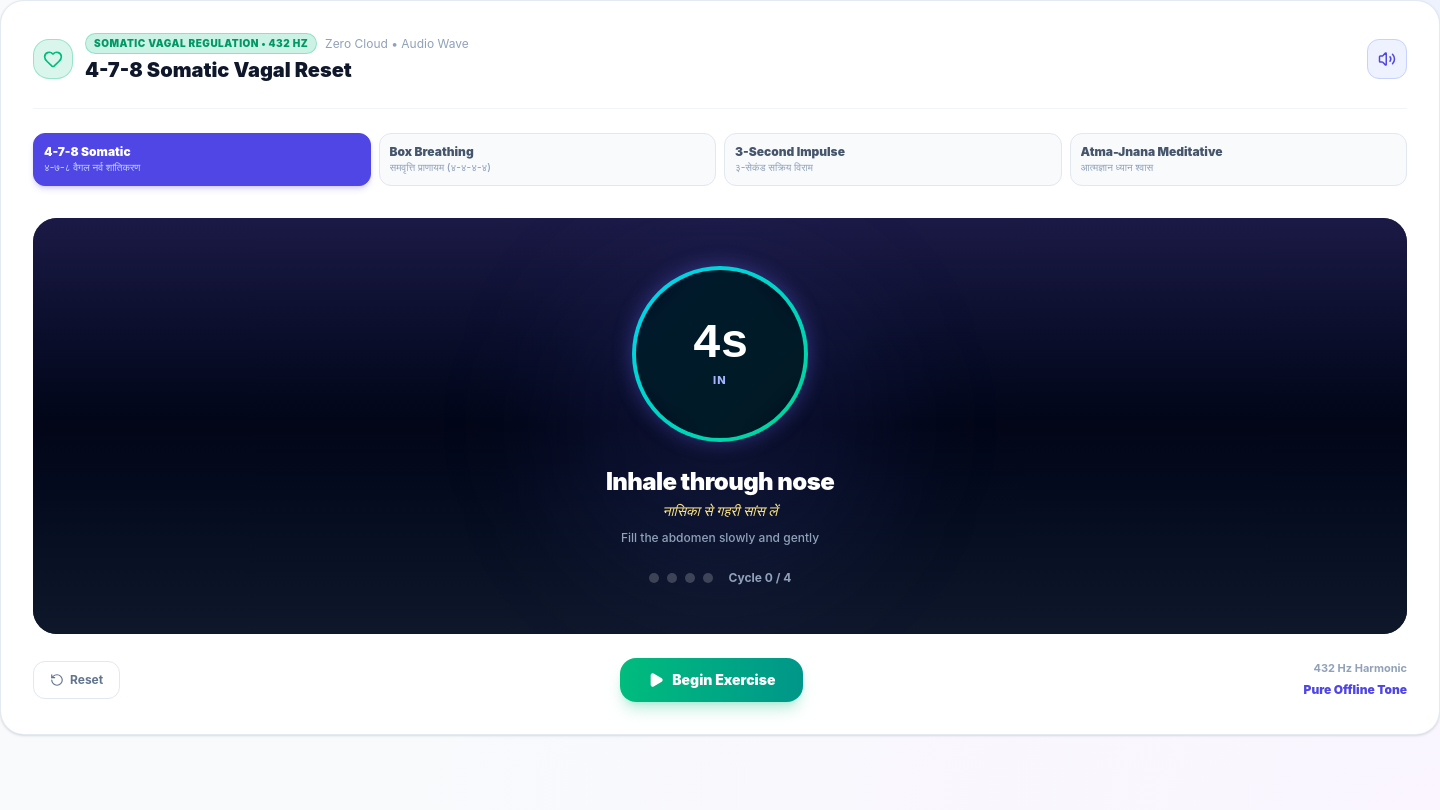
Scenario: Somatic Breathing Companion Component › allows switching to Box Breathing and 3-Second Active Pause protocols
// Switch to Box Breathing
Click the text "समवृत्ति प्राणायम (४-४-४-४)" at (440, 167), box x1=390 y1=161 x2=491 y2=173
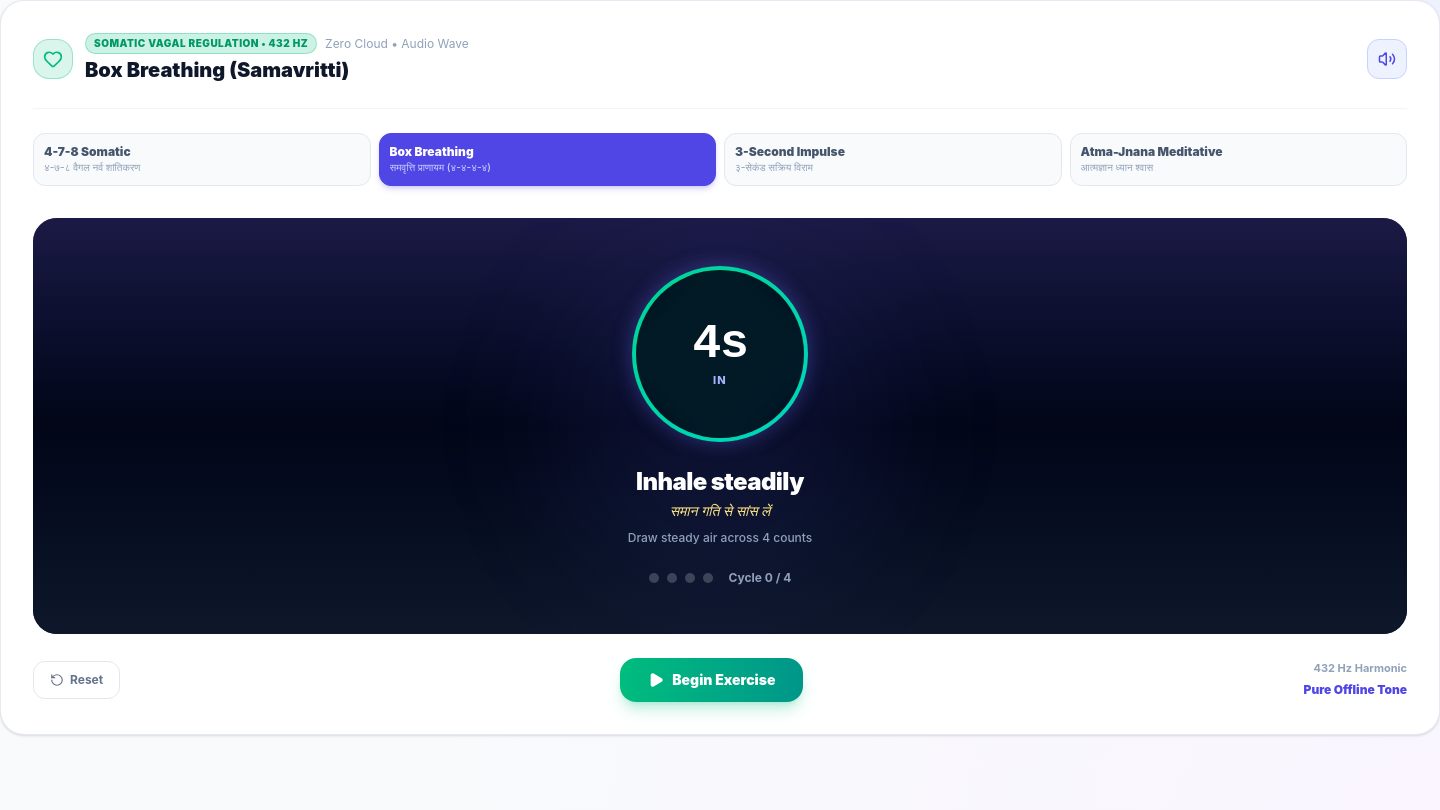
Check: the heading "Box Breathing (Samavritti)" is shown, box x1=85 y1=58 x2=349 y2=82
Click the text "३-सेकंड सक्रिय विराम" at (774, 167), box x1=735 y1=161 x2=813 y2=173
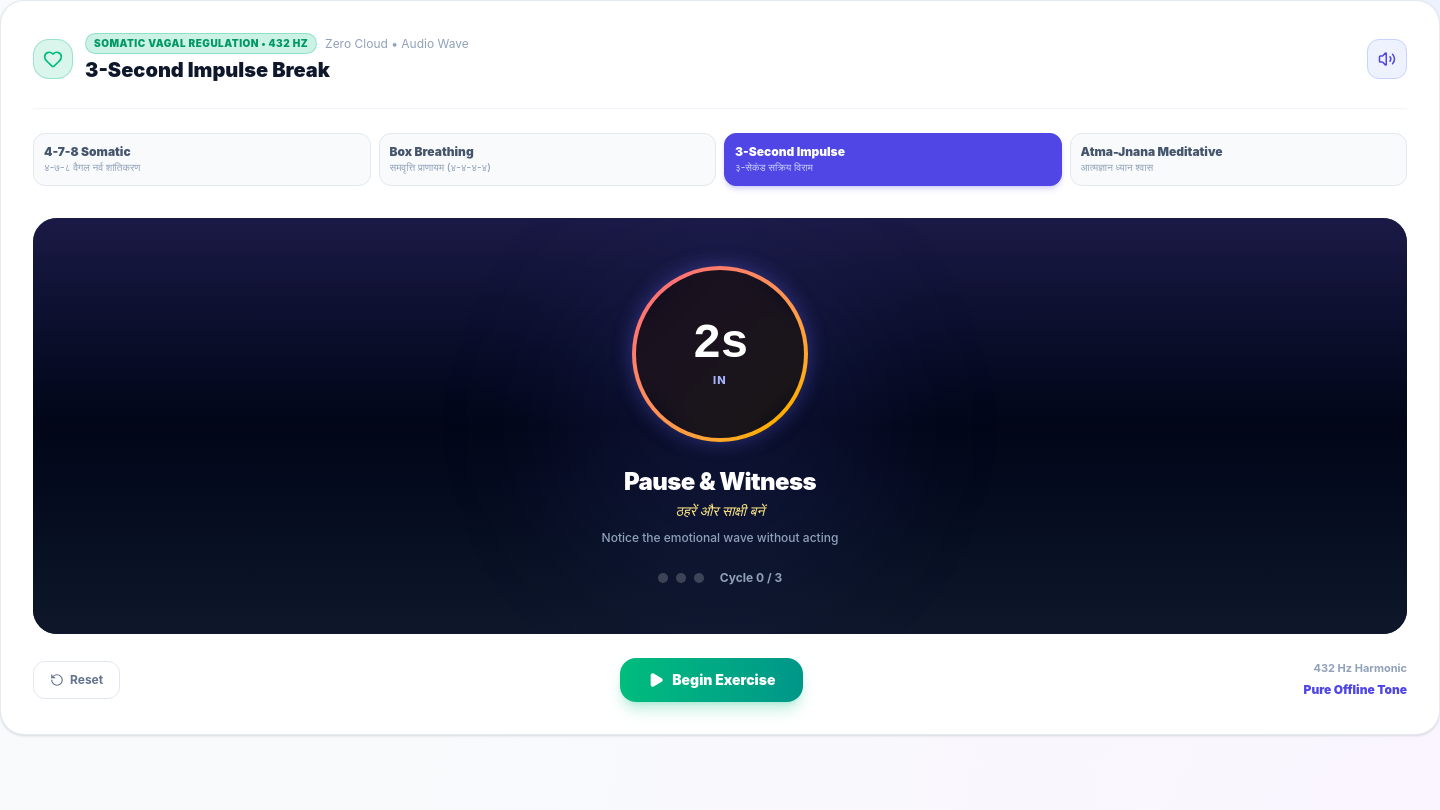
Check: the heading "3-Second Impulse Break" is shown, box x1=85 y1=58 x2=330 y2=82
